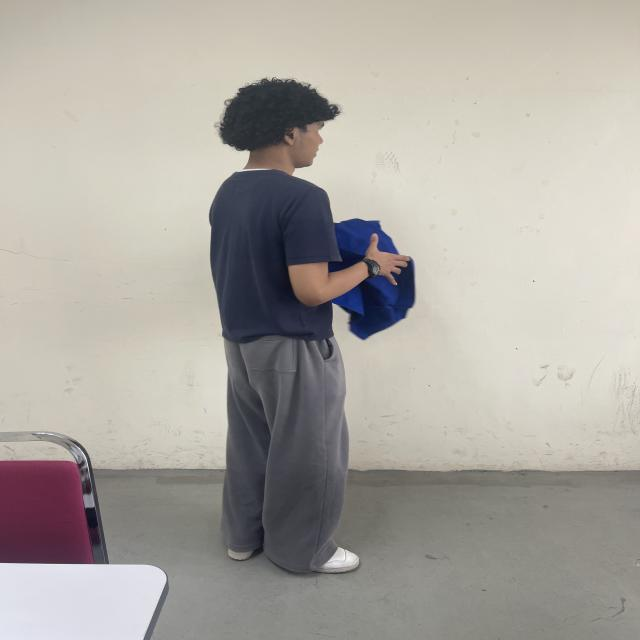person_without_labcoat: (210, 79, 415, 573)
